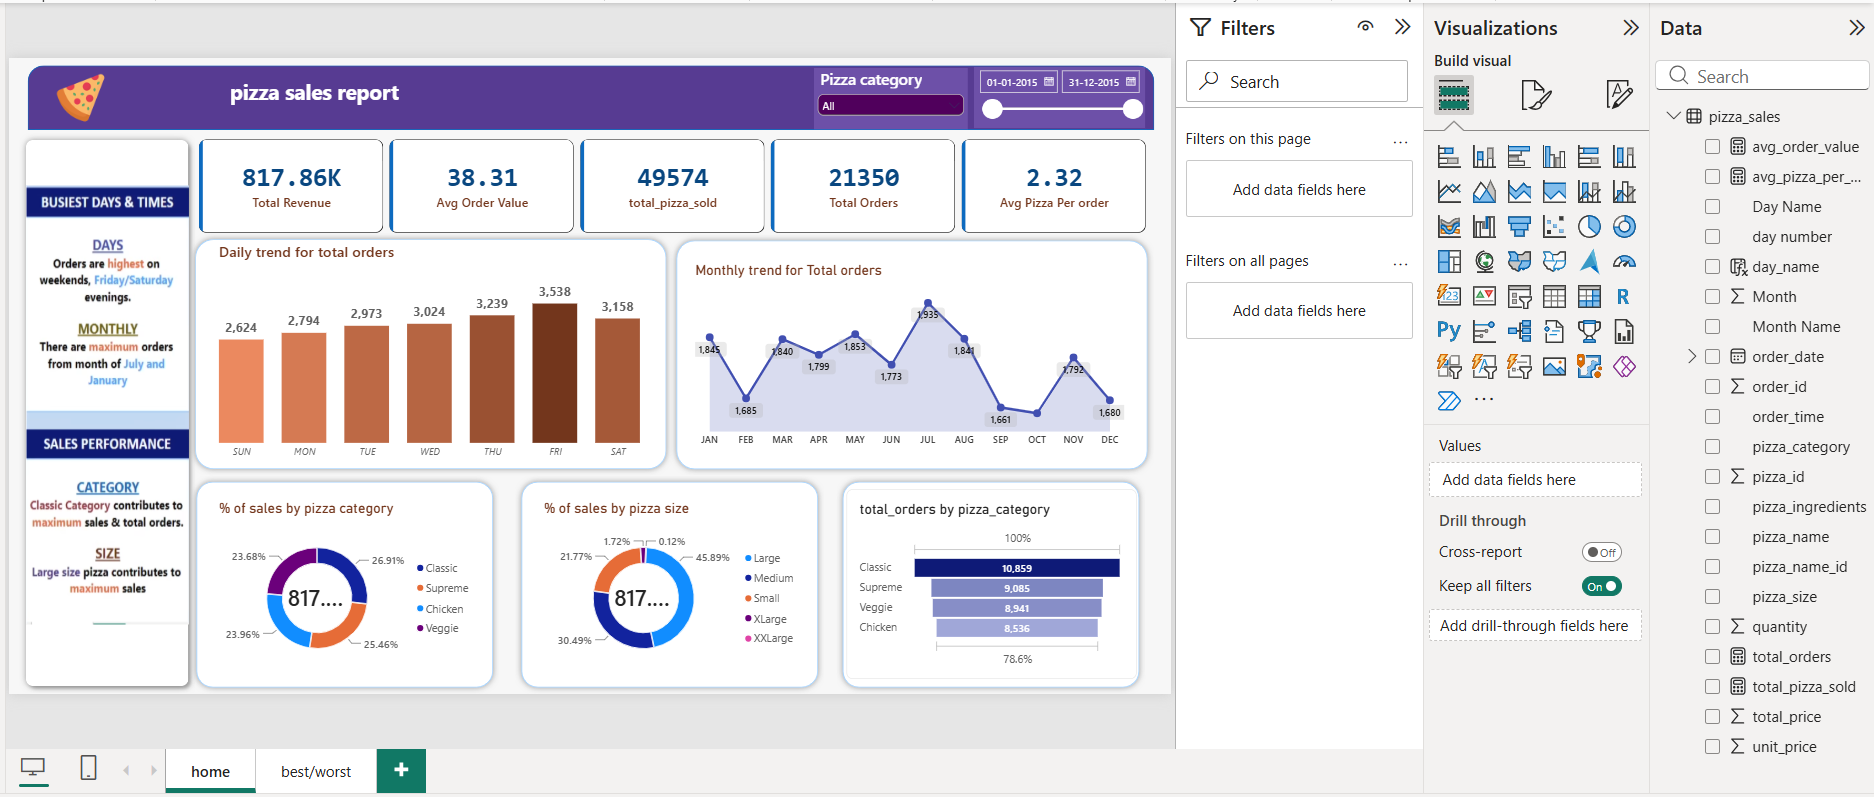

What the dashboard file says about the page in this screenshot:
{"tool":"powerbi","page":{"name":"home","canvas":[1500,820],"ordinal":0},"visuals":[{"type":"shape","box":[23.9,9.9,1453.5,83.1],"z":0},{"type":"textbox","title":"pizza sales","box":[156,26,433.2,50.6],"z":1000},{"type":"image","box":[50,20,84,64],"z":2000},{"type":"cardVisual","title":"Total Revenue","fields":{"Data":["Sum(pizza_sales.total_price)","pizza_sales.avg_order_value","pizza_sales.total_pizza_sold","pizza_sales.total_orders","pizza_sales.avg_pizza_per_order"]},"box":[233.8,93,1245.3,143.8],"z":3000},{"type":"shape","box":[232.4,225.4,623.9,312.7],"z":4000},{"type":"clusteredColumnChart","title":"Daily trend for total orders","fields":{"Y":["pizza_sales.total_orders"],"Category":["pizza_sales.day_name"]},"box":[254.9,236.6,577.5,284.5],"z":5000},{"type":"shape","box":[853.5,226.8,623.9,311.3],"z":6000},{"type":"stackedAreaChart","title":"Monthly trend for Total orders","fields":{"Category":["pizza_sales.Month Name"],"Y":["pizza_sales.total_orders"]},"box":[869,247.9,585.9,273.2],"z":7000},{"type":"shape","box":[233.8,538,398.6,281.7],"z":8000},{"type":"shape","box":[653.5,538,398.6,281.7],"z":9000},{"type":"shape","box":[1067.6,538,398.6,281.7],"z":10000},{"type":"donutChart","title":"% of sales by pizza category","fields":{"Category":["pizza_sales.pizza_category"],"Y":["Sum(pizza_sales.total_price)"]},"box":[254.9,556.3,363.4,245.1],"z":11000},{"type":"donutChart","title":"% of sales by pizza size","fields":{"Y":["Sum(pizza_sales.total_price)"],"Category":["pizza_sales.pizza_size"]},"box":[674.6,556.3,363.4,245.1],"z":12000},{"type":"funnel","fields":{"Y":["pizza_sales.total_orders"],"Category":["pizza_sales.pizza_category"]},"box":[1080.3,556.3,374.6,245.1],"z":13000},{"type":"shape","box":[12.9,96.8,227.4,722.6],"z":14000},{"type":"image","box":[22.6,164.5,209.7,566.1],"z":15000},{"type":"slicer","fields":{"Values":["pizza_sales.pizza_category"]},"box":[1038,12.7,198.6,78.9],"z":16000},{"type":"slicer","fields":{"Values":["pizza_sales.order_date"]},"box":[1245.2,11.3,221,79],"z":17000}]}

Visuals, with their boxes on the page's 1500x820 design canvas (x1, y1, x2, y2). These are canvas units, not pixel positions in the 1874x797 screenshot, which may show the page scaled, cropped or inside an application window:
shape: [left=24, top=10, right=1477, bottom=93]
"pizza sales" textbox: [left=156, top=26, right=589, bottom=77]
image: [left=50, top=20, right=134, bottom=84]
"Total Revenue" cardVisual: [left=234, top=93, right=1479, bottom=237]
shape: [left=232, top=225, right=856, bottom=538]
"Daily trend for total orders" clusteredColumnChart: [left=255, top=237, right=832, bottom=521]
shape: [left=854, top=227, right=1477, bottom=538]
"Monthly trend for Total orders" stackedAreaChart: [left=869, top=248, right=1455, bottom=521]
shape: [left=234, top=538, right=632, bottom=820]
shape: [left=654, top=538, right=1052, bottom=820]
shape: [left=1068, top=538, right=1466, bottom=820]
"% of sales by pizza category" donutChart: [left=255, top=556, right=618, bottom=801]
"% of sales by pizza size" donutChart: [left=675, top=556, right=1038, bottom=801]
funnel - pizza_sales.total_orders x pizza_sales.pizza_category: [left=1080, top=556, right=1455, bottom=801]
shape: [left=13, top=97, right=240, bottom=819]
image: [left=23, top=164, right=232, bottom=731]
slicer - pizza_sales.pizza_category: [left=1038, top=13, right=1237, bottom=92]
slicer - pizza_sales.order_date: [left=1245, top=11, right=1466, bottom=90]
